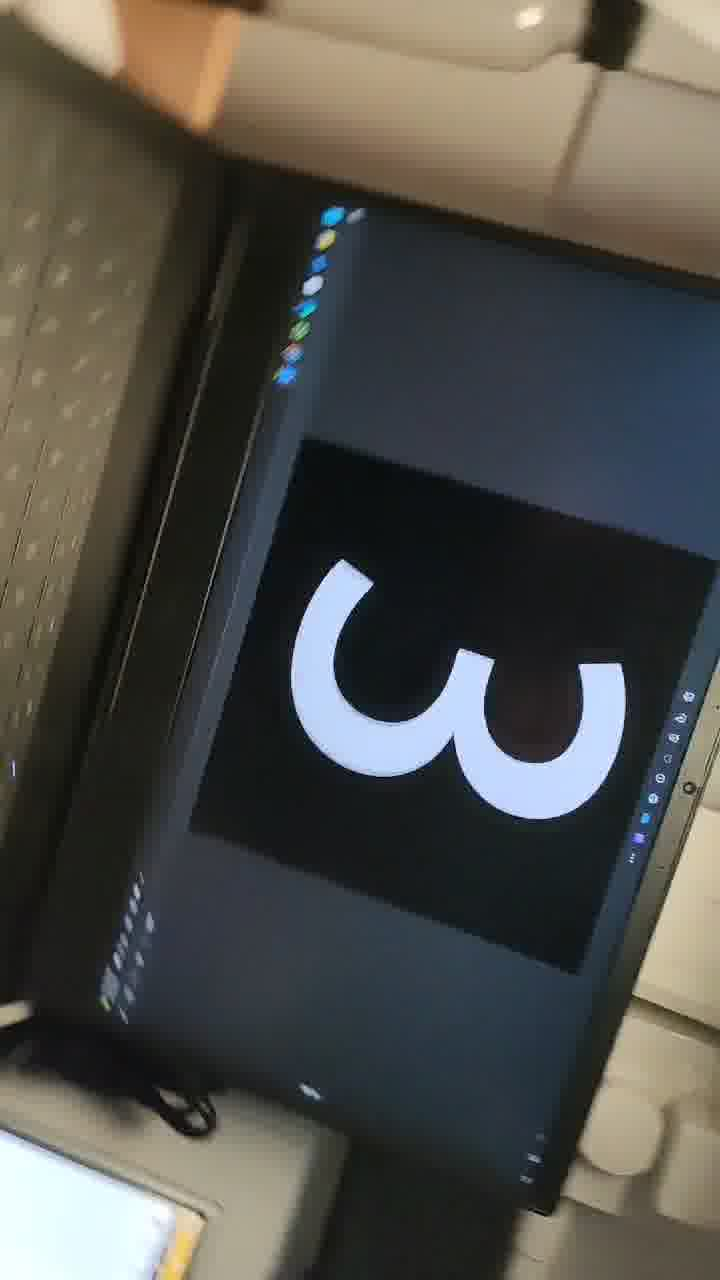three: (257, 526, 636, 865)
